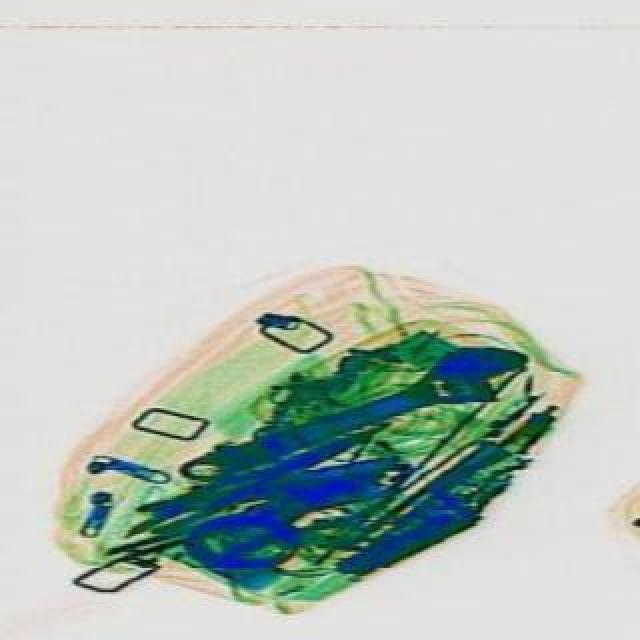scissors: (164, 324, 536, 502)
